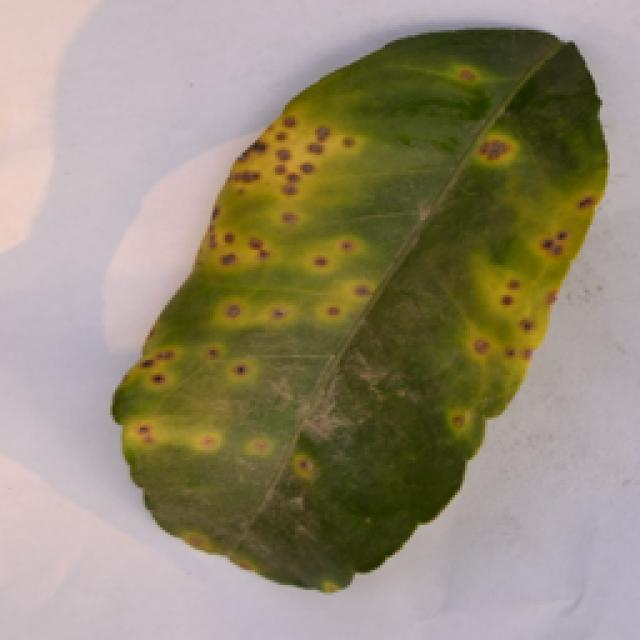canker: (110, 33, 608, 589)
